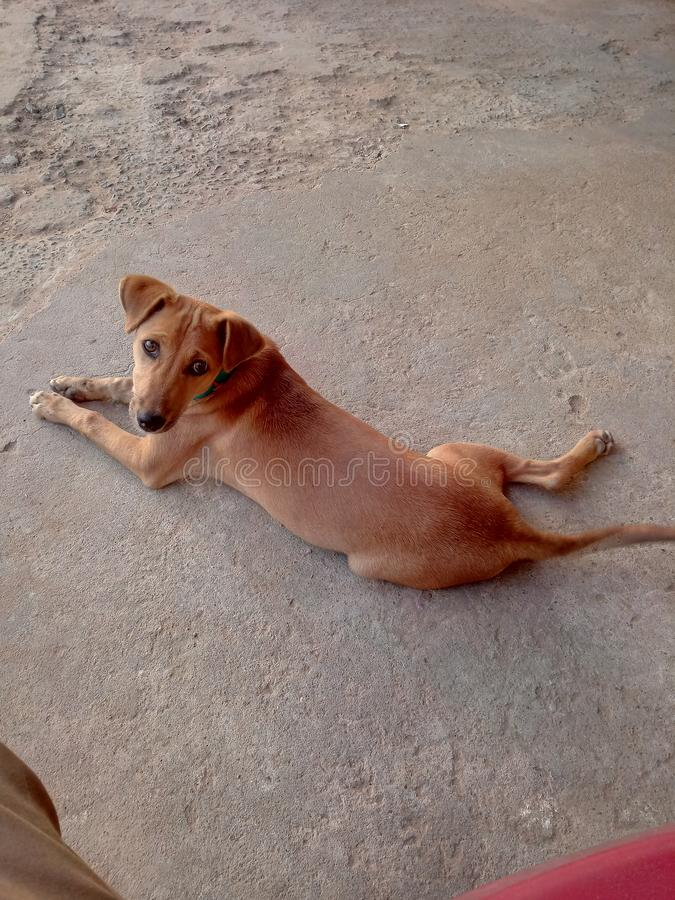nontarget: (18, 236, 675, 623)
